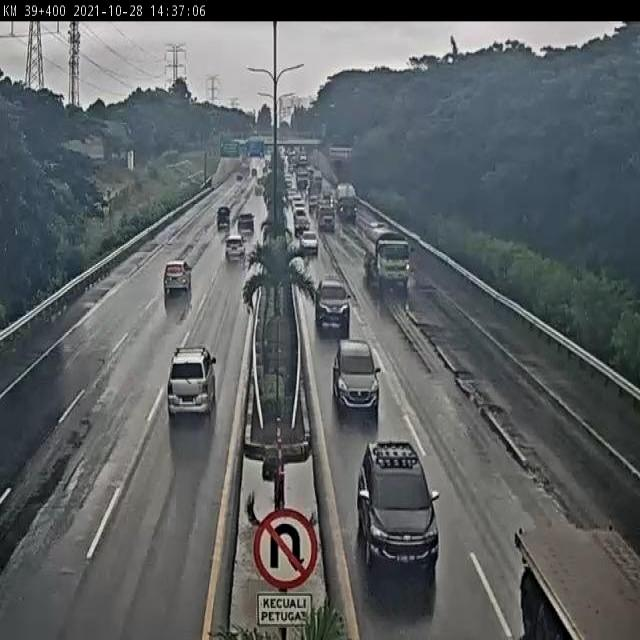Car: (348, 439, 443, 575), (331, 339, 381, 425), (317, 278, 354, 340), (160, 261, 195, 299), (220, 236, 247, 260), (298, 230, 320, 258), (237, 212, 257, 233), (293, 211, 312, 233), (294, 201, 306, 212)
Truck: (364, 217, 417, 300), (336, 182, 360, 226), (316, 205, 337, 234), (311, 173, 323, 199), (296, 168, 310, 190)
Van: (166, 345, 221, 423), (215, 205, 231, 231)
